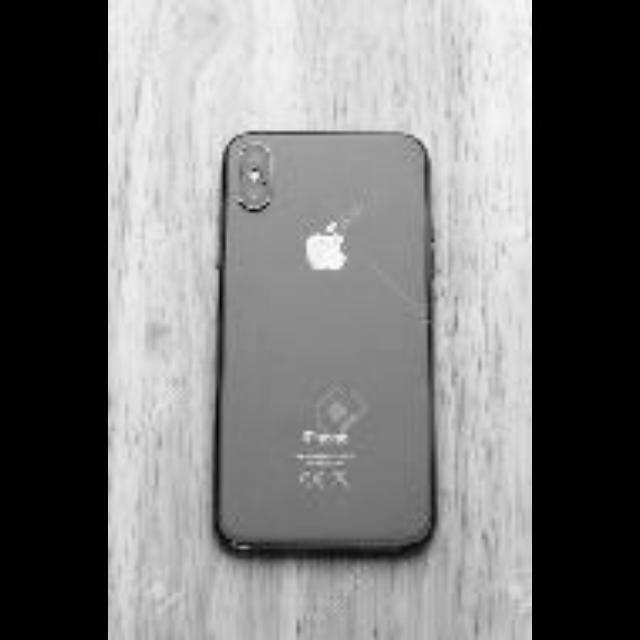fake: (212, 130, 436, 553)
